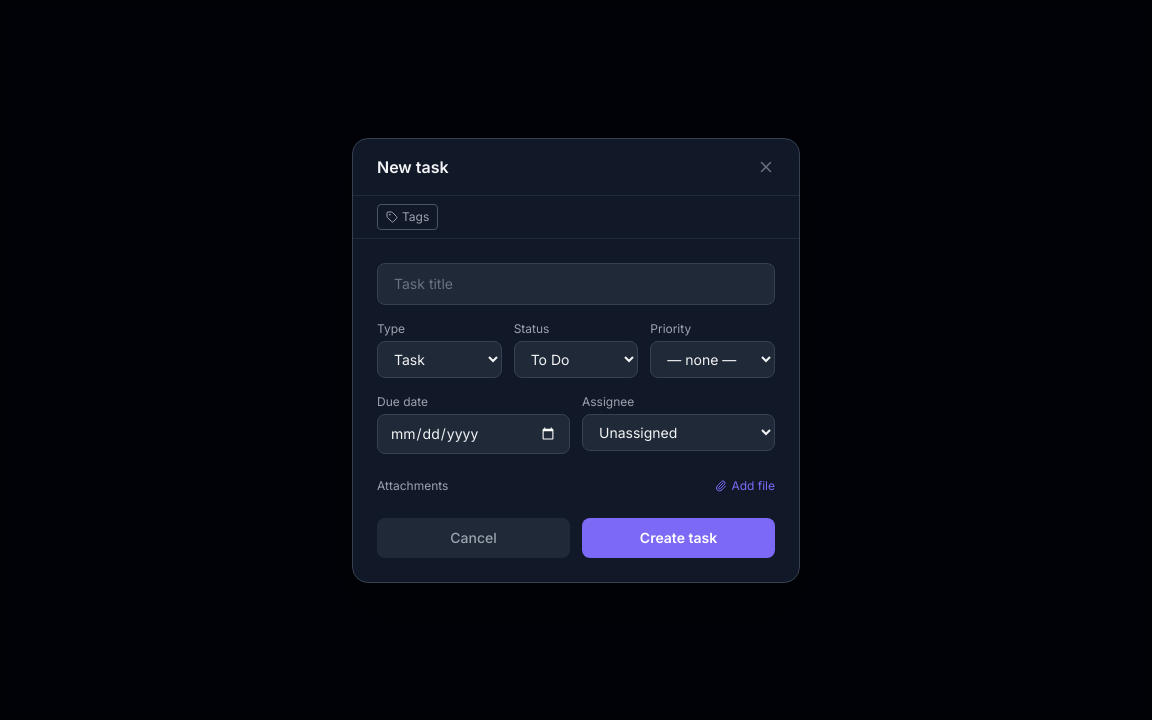
Scenario: REQ-SEV01 — severity picker visible only for Bug › [REQ-SEV01] severity picker disappears after switching back to task
The image size is (1152, 720).
Select "Bug" in the dropdown named "issue type": (439, 359) [377, 340, 502, 378]
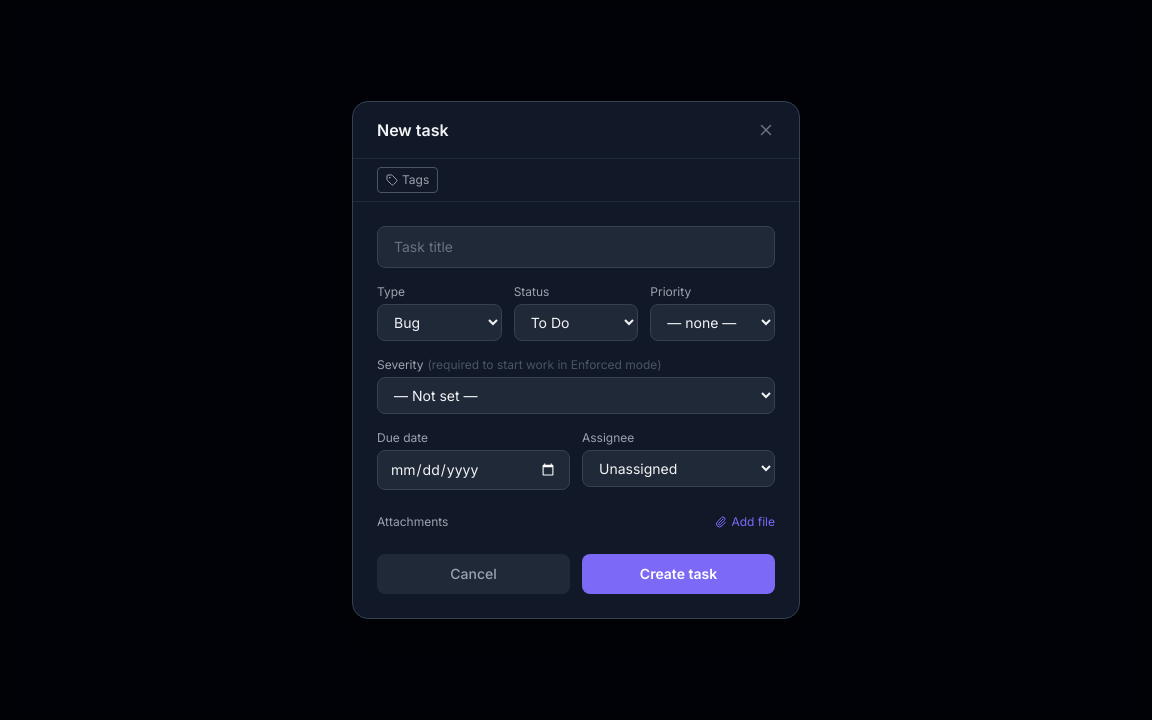
Select "Task" in the dropdown named "issue type": (439, 322) [377, 304, 502, 341]
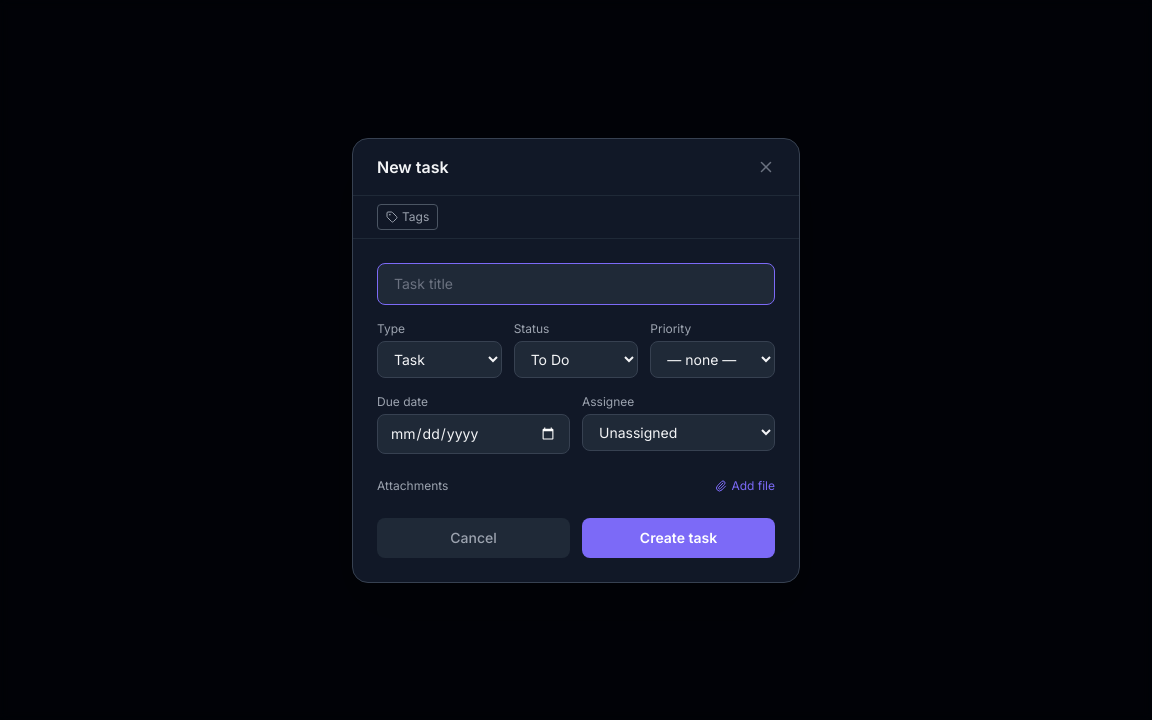
Check: the label "Severity" is gone
